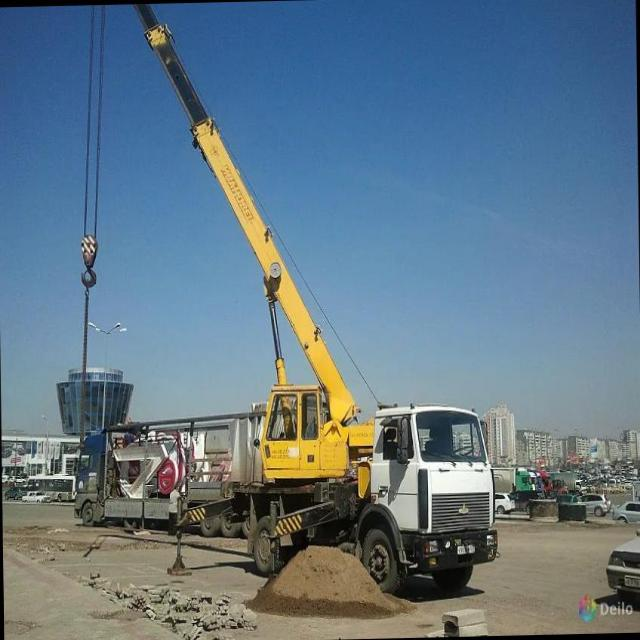crane: (77, 0, 500, 611)
